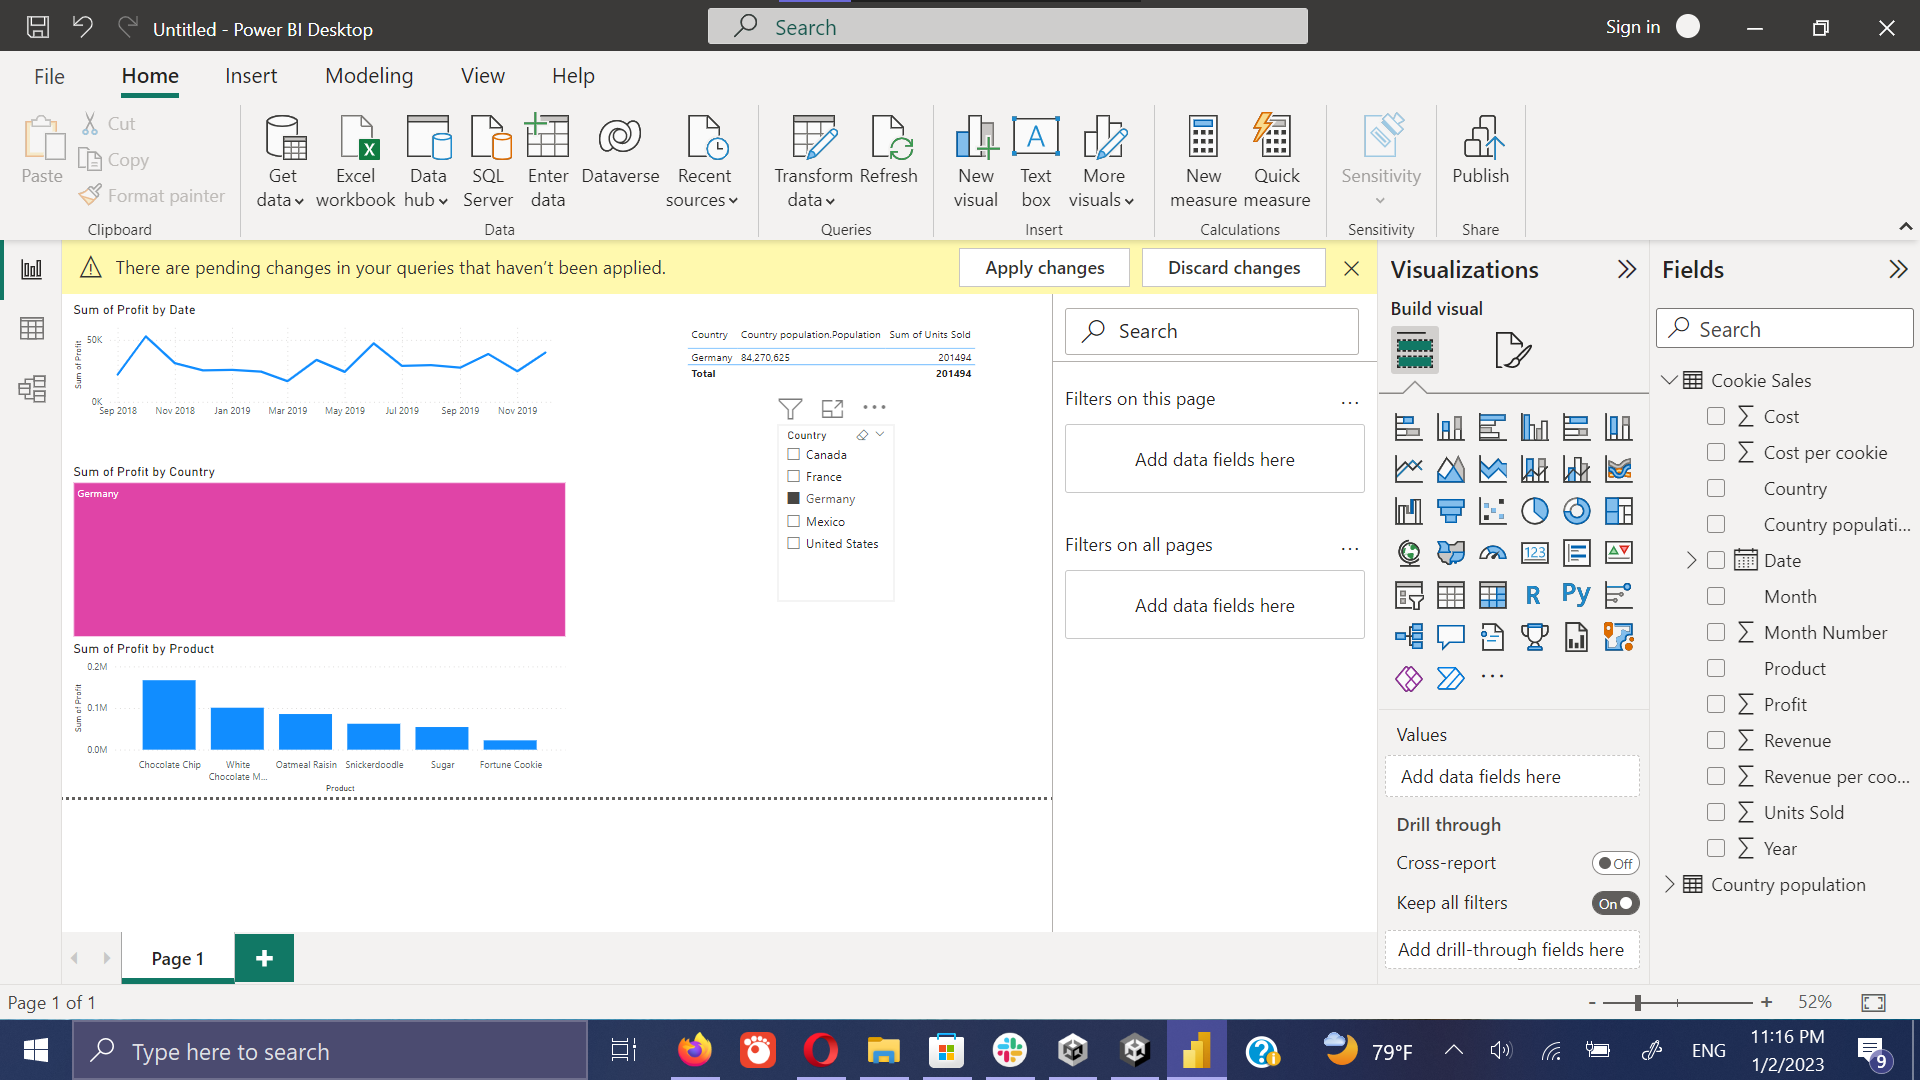

The page's visual inventory and layout, read from the dashboard file:
{"tool":"powerbi","page":{"name":"Page 1","canvas":[1280,720],"ordinal":0},"visuals":[{"type":"textbox","box":[9.7,0,614.8,279.3],"z":0},{"type":"lineChart","fields":{"Category":["Cookie Sales.Date"],"Y":["Sum(Cookie Sales.Profit)"]},"box":[9.4,78.9,646.6,159.8],"z":1},{"type":"map","fields":{"Category":["Cookie Sales.Country"],"Size":["Sum(Cookie Sales.Profit)"]},"box":[9.4,289.5,646.6,229.3],"z":2},{"type":"tableEx","fields":{"Values":["Cookie Sales.Country","Cookie Sales.Country population.Population","Sum(Cookie Sales.Units Sold)"]},"box":[946.4,312.2,333.6,151.3],"z":3},{"type":"clusteredColumnChart","fields":{"Category":["Cookie Sales.Product"],"Y":["Sum(Cookie Sales.Profit)"]},"box":[9.4,518.8,646.6,201.1],"z":4},{"type":"pieChart","fields":{"Category":["Cookie Sales.Month"],"Y":["Sum(Cookie Sales.Profit)"]},"box":[624.5,428.6,415,290.9],"z":6},{"type":"ribbonChart","fields":{"Y":["Sum(Cookie Sales.Revenue)"],"Category":["Cookie Sales.Country"],"Series":["Cookie Sales.Product"]},"box":[657.5,40.7,298.7,298.7],"z":7},{"type":"card","fields":{"Values":["Sum(Cookie Sales.Units Sold)"]},"box":[947.4,91.4,324.9,198.4],"z":8},{"type":"slicer","fields":{"Values":["Cookie Sales.Country"]},"box":[1038.8,519.4,241.2,200.4],"z":9}]}

Visuals, with their boxes on the page's 1280x720 design canvas (x1, y1, x2, y2). These are canvas units, not pixel positions in the 1920x1080 screenshot, which may show the page scaled, cropped or inside an application window:
textbox: <box>10,0,624,279</box>
lineChart - Cookie Sales.Date x Sum(Cookie Sales.Profit): <box>9,79,656,239</box>
map - Cookie Sales.Country x Sum(Cookie Sales.Profit): <box>9,290,656,519</box>
tableEx - Cookie Sales.Country x Cookie Sales.Country population.Population: <box>946,312,1280,464</box>
clusteredColumnChart - Cookie Sales.Product x Sum(Cookie Sales.Profit): <box>9,519,656,720</box>
pieChart - Cookie Sales.Month x Sum(Cookie Sales.Profit): <box>624,429,1040,720</box>
ribbonChart - Sum(Cookie Sales.Revenue) x Cookie Sales.Country: <box>658,41,956,339</box>
card - Sum(Cookie Sales.Units Sold): <box>947,91,1272,290</box>
slicer - Cookie Sales.Country: <box>1039,519,1280,720</box>
